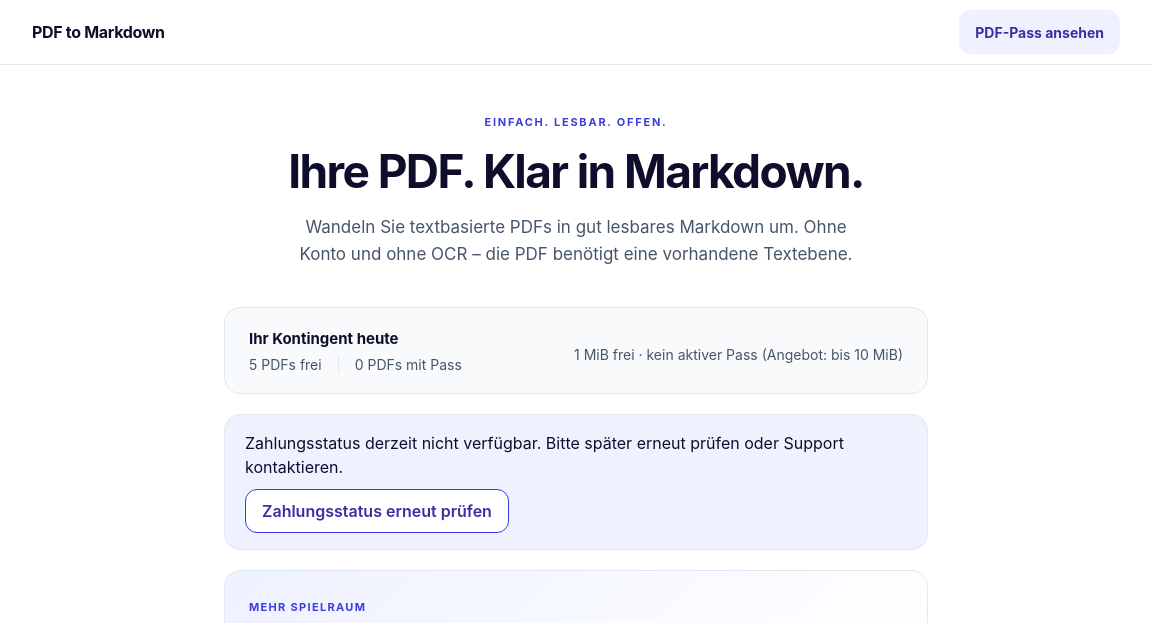
it: 503 checkout status offers a manual retry without claiming payment
Expected: the text "RETRY-CODE" is not shown
Click the button "Zahlungsstatus erneut prüfen": (377, 511) [245,489,509,533]
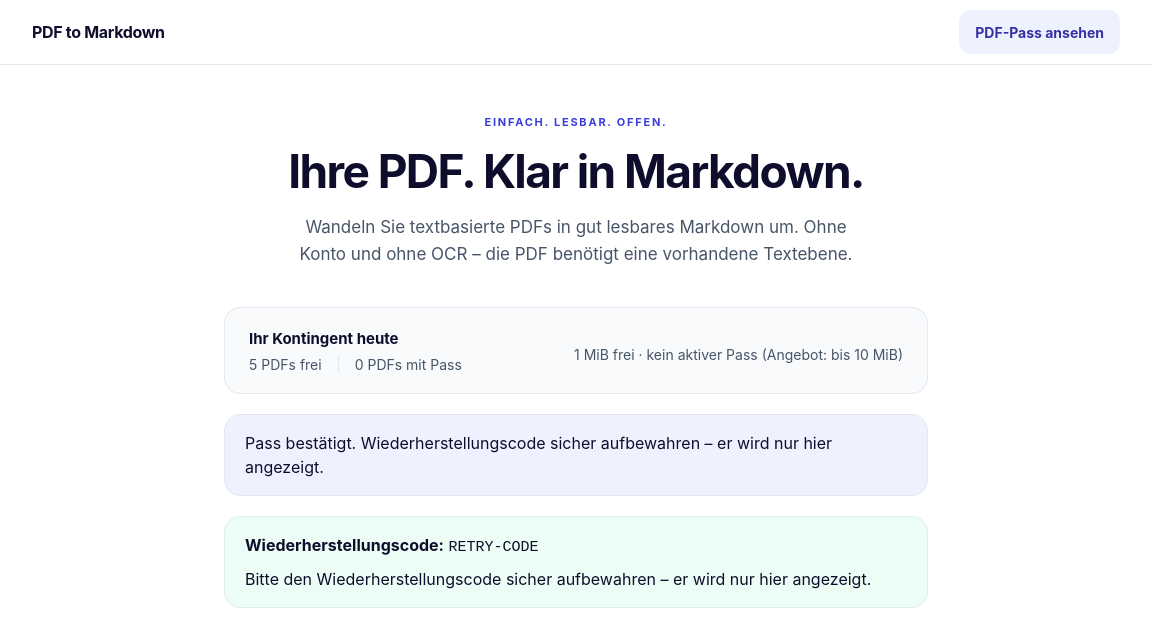
Expected: the text "RETRY-CODE" is shown, [448,537,538,560]
